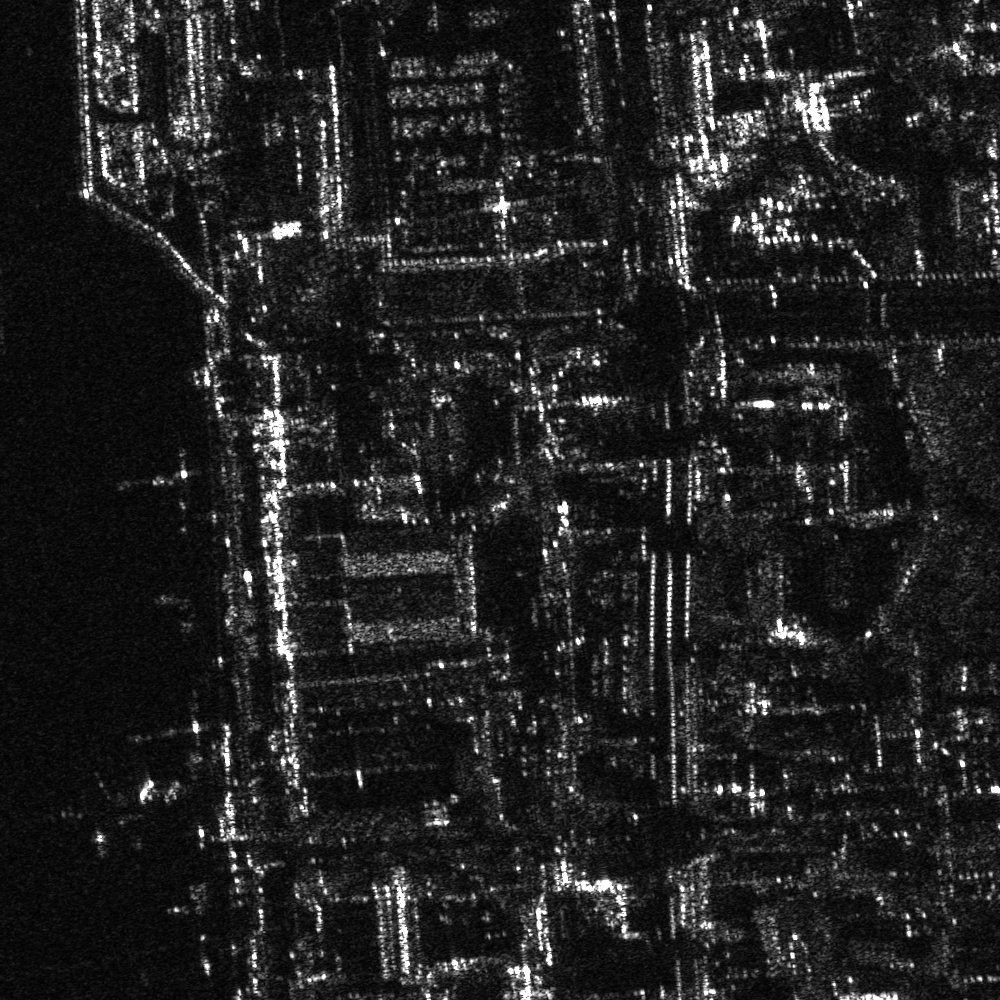A320/321: (129, 691, 218, 758)
other: (111, 434, 213, 531), (50, 773, 149, 854)
